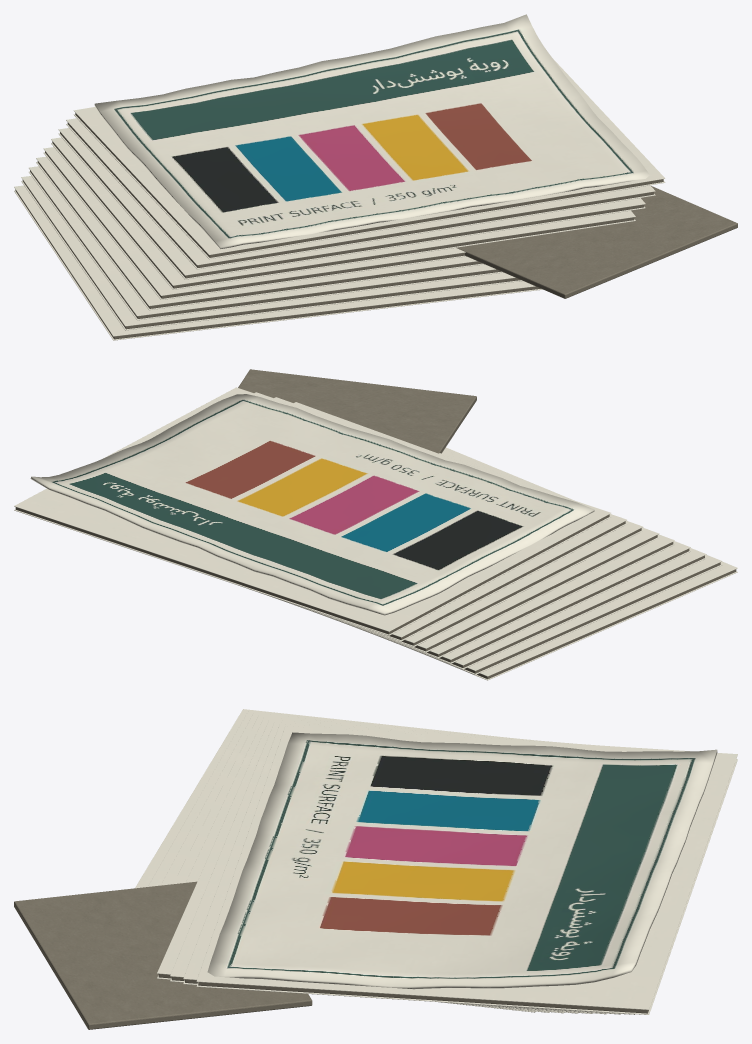
File: coated-board.glb
The picture shows the model from 3 angles, top to bottom: view 1: azimuth 30°, elevation 25°; view 2: azimuth 150°, elevation 25°; view 3: azimuth 270°, elevation 25°; orthographic projection. The views are drawn at different scales.
Visible parts, largest first — view 1: Printed top ply color control patch, Reverse side gray chip, Clay coated white liner.017, Clay coated white liner.011, Clay coated white liner.013, Clay coated white liner.015, Clay coated white liner.001, Clay coated white liner.003, Clay coated white liner.005, Clay coated white liner.007, Clay coated white liner.009, Dense recycled inner ply.008 (+17 smaller); view 2: Printed top ply color control patch, Clay coated white liner.017, Reverse side gray chip, Clay coated white liner.011, Clay coated white liner.013, Clay coated white liner.015, Clay coated white liner.001, Clay coated white liner.003, Clay coated white liner.005, Clay coated white liner.007, Clay coated white liner.009, Dense recycled inner ply.008 (+17 smaller); view 3: Printed top ply color control patch, Reverse side gray chip, Clay coated white liner.017, Clay coated white liner.015, Clay coated white liner.013, Clay coated white liner.011, Clay coated white liner.001, Clay coated white liner.003, Clay coated white liner.005, Clay coated white liner.007, Clay coated white liner.009, Dense recycled inner ply.008 (+1 smaller).
Part boxes in pixels (bbox=[...]): Printed top ply color control patch: bbox=[94, 14, 649, 248]; Reverse side gray chip: bbox=[456, 186, 737, 298]; Clay coated white liner.017: bbox=[73, 58, 665, 255]; Clay coated white liner.011: bbox=[51, 137, 635, 285]; Clay coated white liner.013: bbox=[58, 128, 645, 275]; Clay coated white liner.015: bbox=[66, 118, 655, 265]; Clay coated white liner.001: bbox=[14, 185, 535, 336]; Clay coated white liner.003: bbox=[21, 176, 515, 326]; Clay coated white liner.005: bbox=[29, 166, 495, 316]; Clay coated white liner.007: bbox=[36, 156, 477, 306]; Clay coated white liner.009: bbox=[43, 147, 465, 295]; Dense recycled inner ply.008: bbox=[75, 113, 663, 257]; Printed top ply color control patch: bbox=[30, 394, 594, 615]; Clay coated white liner.017: bbox=[14, 387, 610, 631]; Reverse side gray chip: bbox=[238, 369, 476, 453]; Clay coated white liner.011: bbox=[294, 402, 659, 648]; Clay coated white liner.013: bbox=[274, 397, 642, 643]; Clay coated white liner.015: bbox=[254, 392, 626, 637]; Clay coated white liner.001: bbox=[445, 447, 737, 676]; Clay coated white liner.003: bbox=[443, 449, 722, 670]; Clay coated white liner.005: bbox=[442, 451, 706, 665]; Clay coated white liner.007: bbox=[442, 452, 690, 659]; Clay coated white liner.009: bbox=[430, 453, 674, 654]; Dense recycled inner ply.008: bbox=[15, 507, 609, 634]; Printed top ply color control patch: bbox=[207, 732, 717, 989]; Reverse side gray chip: bbox=[14, 881, 312, 1029]; Clay coated white liner.017: bbox=[196, 726, 737, 1009]; Clay coated white liner.015: bbox=[183, 724, 604, 979]; Clay coated white liner.013: bbox=[170, 721, 585, 977]; Clay coated white liner.011: bbox=[157, 719, 568, 974]; Clay coated white liner.001: bbox=[135, 709, 487, 888]; Clay coated white liner.003: bbox=[148, 711, 506, 886]; Clay coated white liner.005: bbox=[160, 713, 523, 885]; Clay coated white liner.007: bbox=[173, 715, 537, 884]; Clay coated white liner.009: bbox=[185, 717, 552, 882]; Dense recycled inner ply.008: bbox=[198, 982, 648, 1013].
Size of the model in its own units: 0.2986 by 0.0362 by 0.2595.
3 materials, 3 textured.
